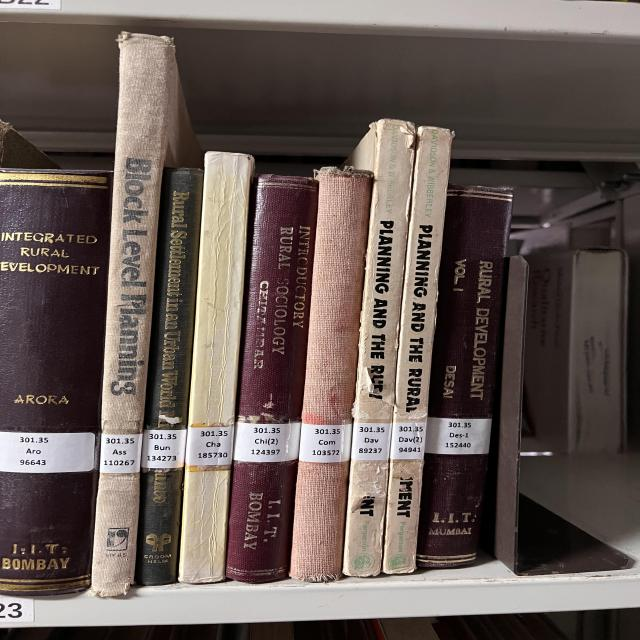Book: (90, 32, 198, 598), (0, 169, 112, 595), (227, 175, 317, 582), (417, 185, 512, 568), (343, 119, 417, 578), (290, 168, 372, 581), (178, 151, 253, 582), (383, 126, 453, 574), (135, 169, 203, 585)
Label: (0, 431, 95, 472), (233, 422, 302, 462), (425, 418, 492, 455), (298, 424, 352, 462), (185, 426, 235, 466), (142, 429, 187, 469), (100, 434, 142, 474), (352, 422, 392, 461), (390, 422, 427, 460)
